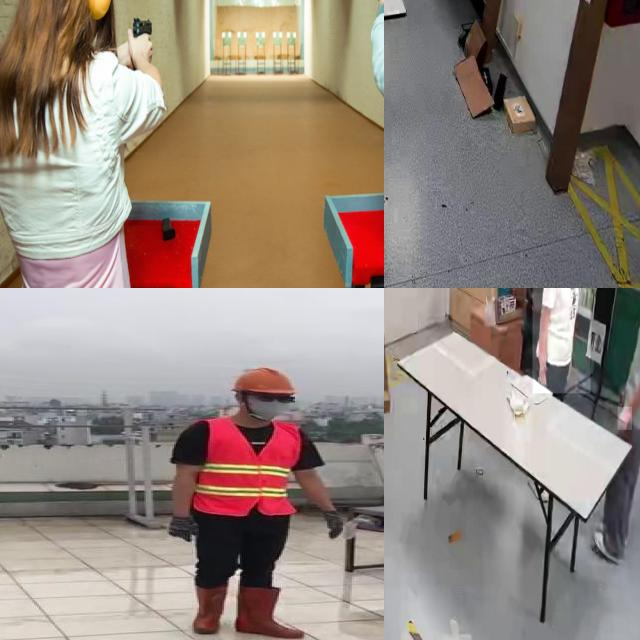Ear-protection: (8, 0, 119, 62)
boots: (234, 584, 304, 640), (188, 583, 226, 636)
hand_noglove: (618, 406, 632, 431), (538, 358, 548, 385)
head_helmet: (229, 366, 301, 396)
person: (164, 361, 355, 640), (0, 0, 171, 288), (601, 288, 640, 571), (532, 288, 591, 394)
shoes: (592, 528, 626, 566)
vest: (194, 415, 304, 515)
